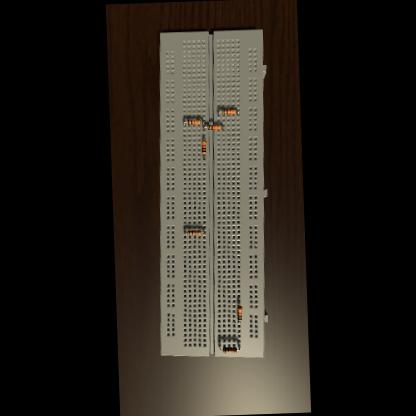breadboard: (149, 28, 276, 360)
resistor: (236, 304, 242, 320), (223, 346, 237, 352), (221, 108, 236, 113), (187, 229, 201, 234), (186, 119, 200, 124), (206, 125, 220, 130), (202, 139, 206, 153)
wire: (219, 344, 223, 350), (200, 121, 204, 125), (218, 110, 221, 114), (237, 344, 239, 350), (184, 121, 186, 125), (236, 110, 238, 114), (204, 127, 206, 130), (221, 126, 223, 129), (239, 299, 240, 305), (184, 230, 186, 232), (202, 230, 204, 232), (238, 320, 240, 322)
